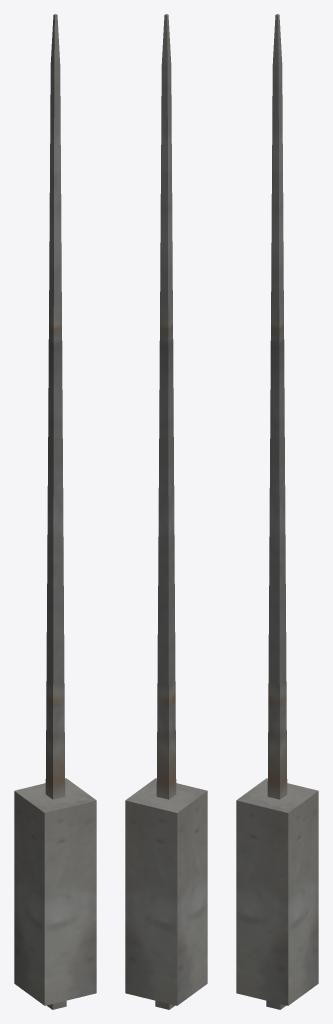
Rendered from flag.dae.
3 views of the same model, side by side, from view 1: azimuth 30°, elevation 25°; view 2: azimuth 150°, elevation 25°; view 3: azimuth 330°, elevation 25° (orthographic).
Visible parts, largest first — view 1: flag; view 2: flag; view 3: flag.
Boxes of the visible parts, x1,y1,x2,y2 form: flag: (14, 14, 96, 1009); flag: (125, 14, 207, 1009); flag: (236, 14, 318, 1009).
Bounding box in the file's own units: 1.26 × 1.28 × 22.88.
